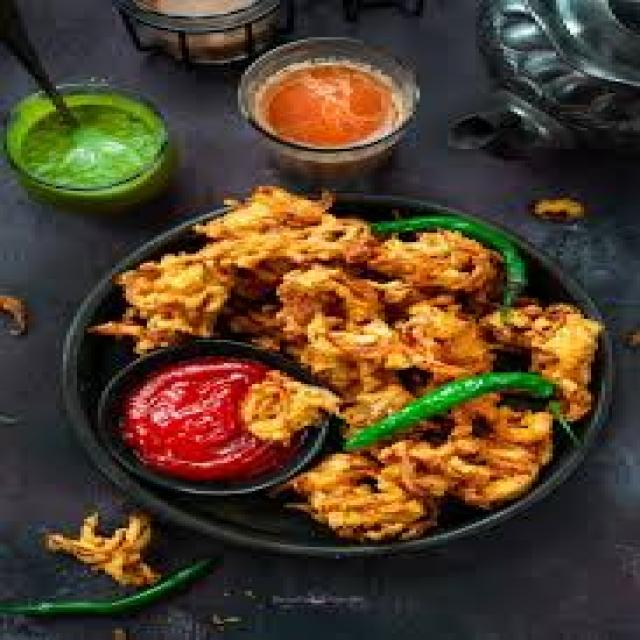BAJI: (113, 201, 587, 534)
